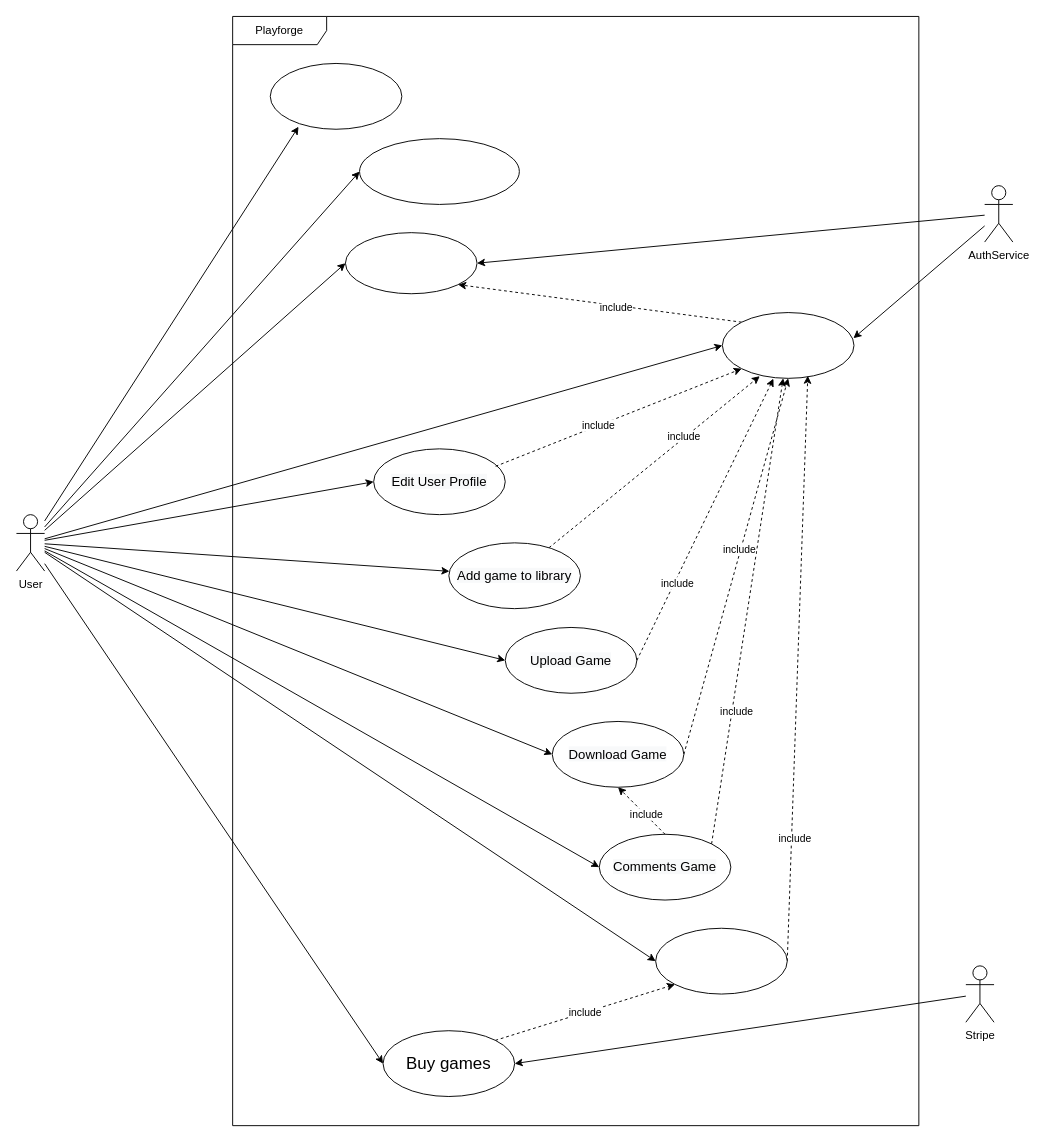
The diagram is 1045 pixels wide and 1142 high, and some of its shapes have lost their labels. The box of each missing label's shape, as (x1, y1, x2, y2) in pixels:
Add Game to Cart: (655, 927, 787, 994)
Browse categories: (269, 63, 402, 129)
Create account: (345, 232, 477, 294)
Login: (721, 312, 854, 378)
Play game in browser: (359, 138, 519, 204)
